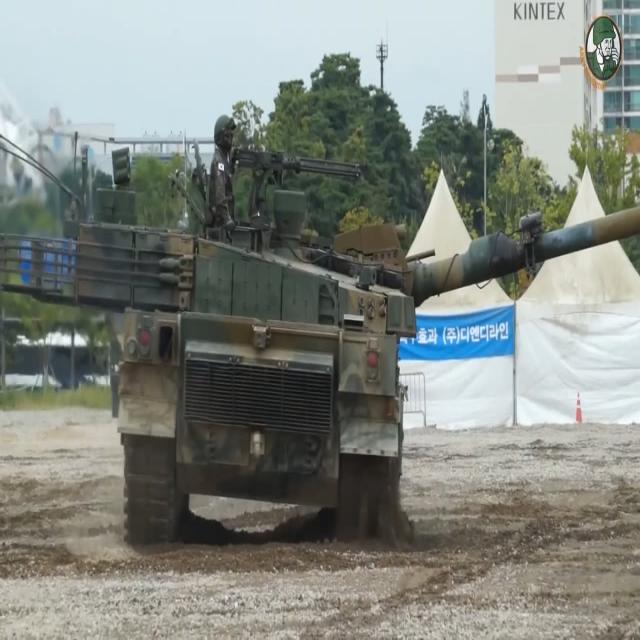korea tank: (0, 113, 640, 550)
